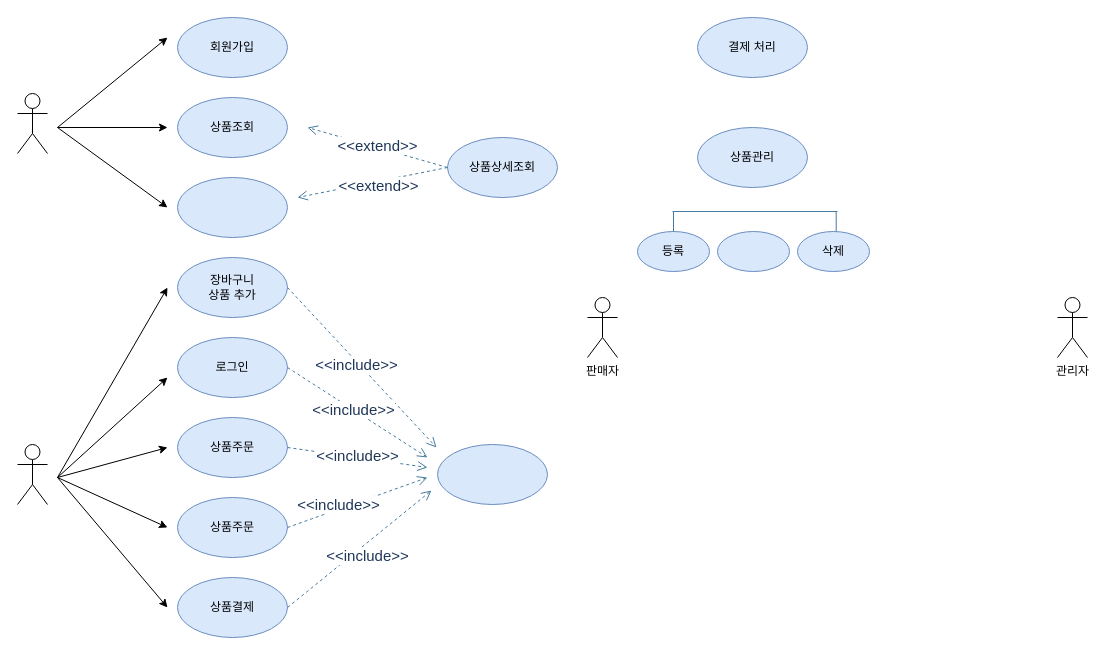
Some shapes in this 1106 by 655 pixel diagram are drawn without their labels. The shapes that lost their labels are listed below. From the top down, each one's box as (x1, y1, x2, y2) in pixels, then its label:
(16, 92, 48, 154): 고객
(176, 176, 288, 238): 상품검색
(716, 230, 790, 272): 수정
(16, 444, 48, 504): 회원
(436, 444, 548, 504): 사용자 인증
